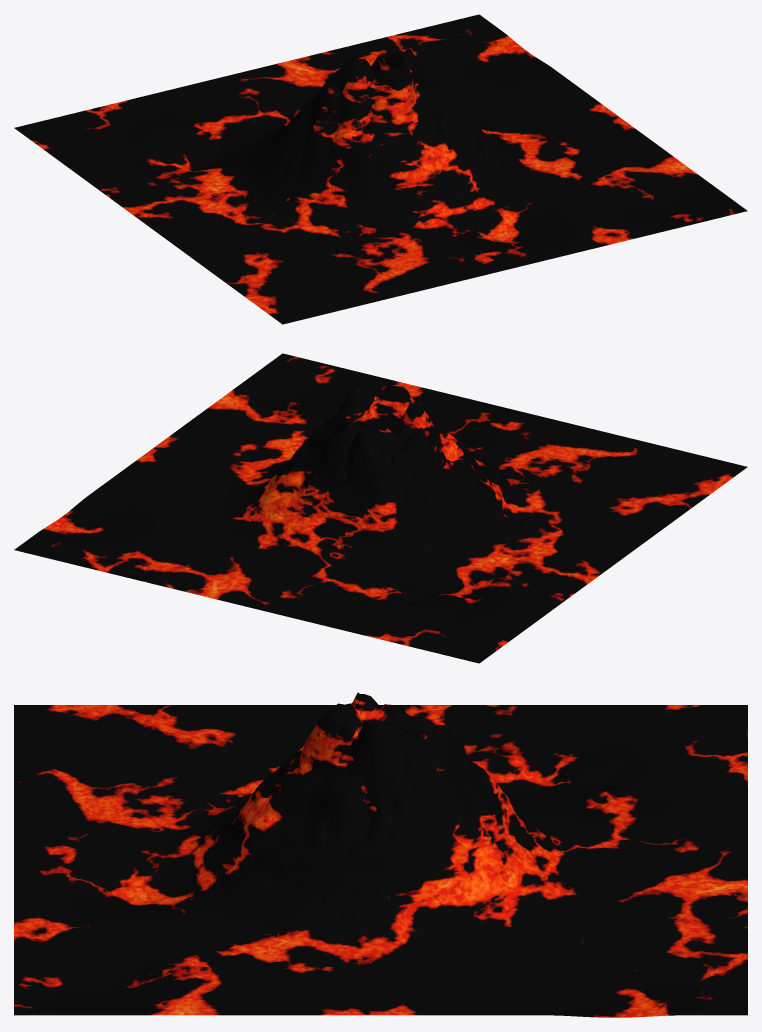
File: volcano_ckanbac.obj
3 views of the same model, one above another, from view 1: azimuth 30°, elevation 25°; view 2: azimuth 150°, elevation 25°; view 3: azimuth 270°, elevation 25° (orthographic). The views are drawn at different scales.
Visible parts, largest first — view 1: volcano; view 2: volcano; view 3: volcano.
Boxes of the visible parts, x1,y1,x2,y2 form: volcano: [14, 14, 747, 324]; volcano: [14, 353, 747, 663]; volcano: [14, 692, 747, 1017].
Bounding box in the file's own units: 3.53 × 0.9143 × 3.53.
